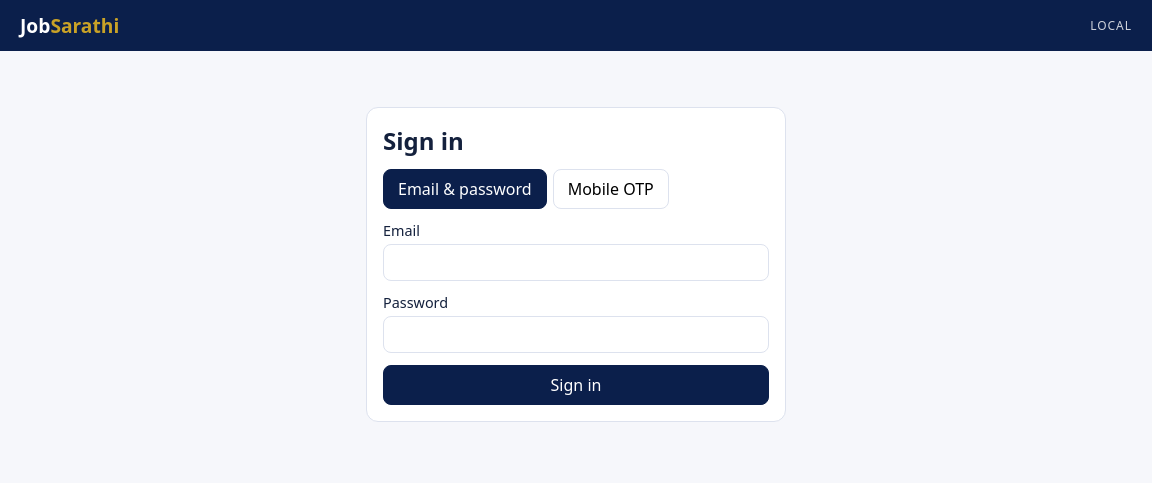
Test case: sign-in › signs in with a mobile OTP and never shows the code
The width and height of the screenshot is (1152, 483).
Click the tab "Mobile OTP" at (611, 189), box [553, 169, 669, 209]
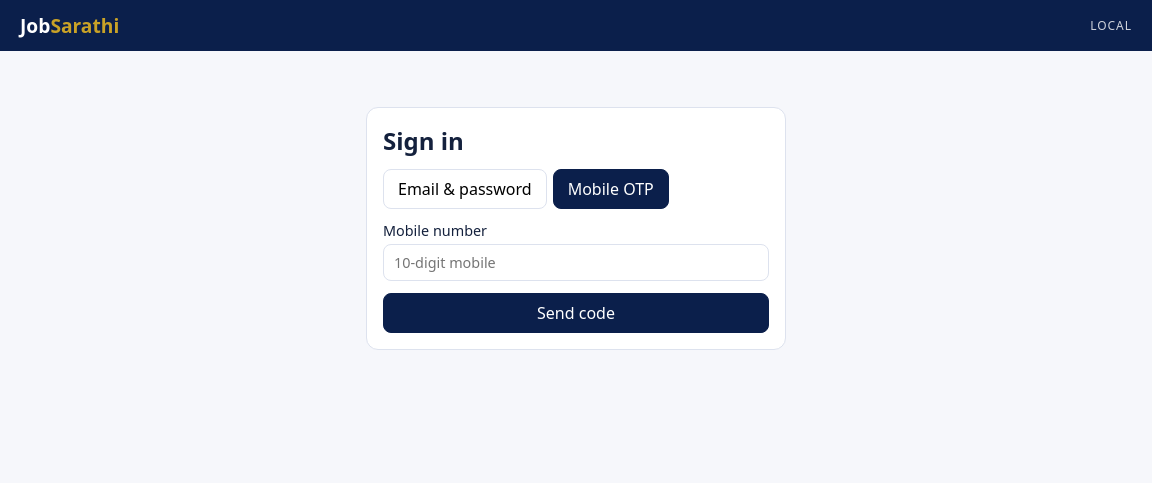
Type "9876543210" into the field labelled "Mobile number" at (576, 262), box [383, 244, 769, 281]
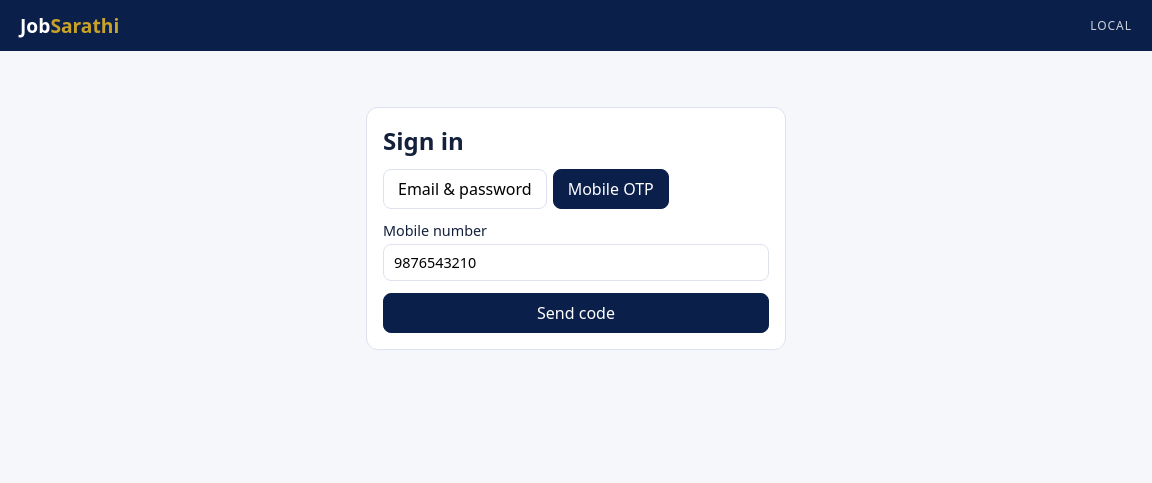
Click the button "Send code" at (576, 313), box [383, 293, 769, 333]
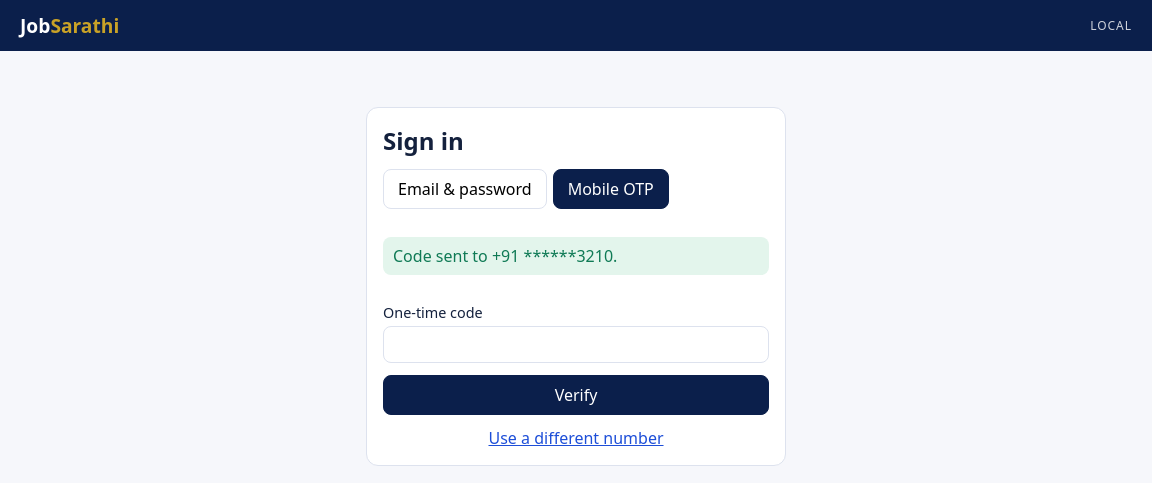
expect the text "Code sent to +91 ******3210." is shown: met, box [383, 237, 769, 275]
Type "12a3456" into the field labelled "One-time code" at (576, 344), box [383, 326, 769, 363]
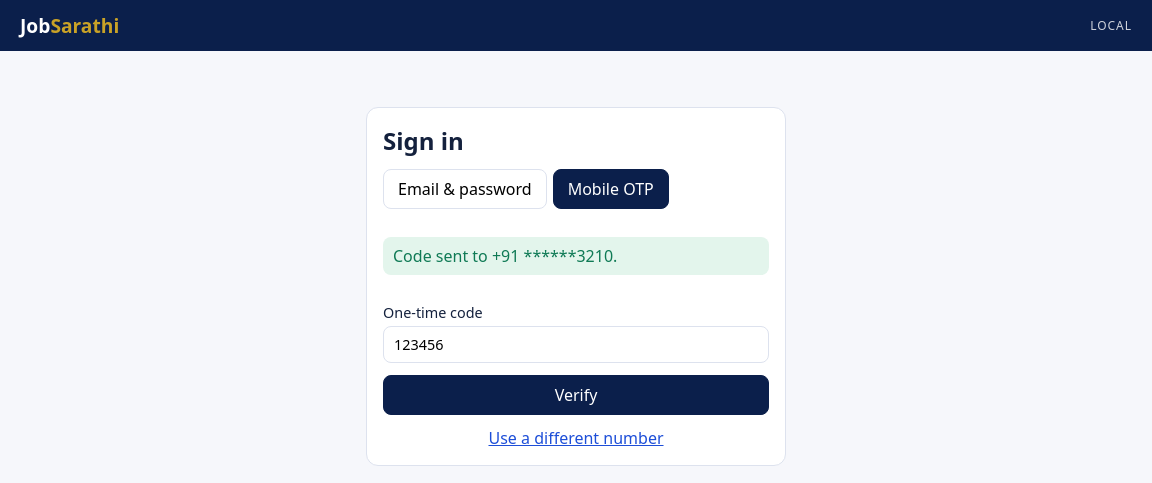
Click the button "Verify" at (576, 395), box [383, 375, 769, 415]
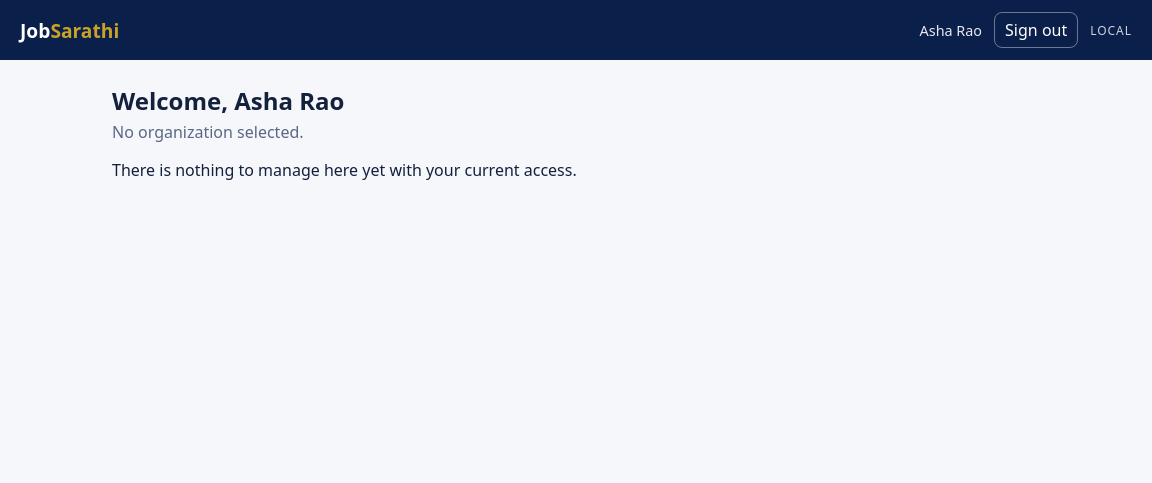
expect the heading "Welcome, Asha Rao" is shown: met, box [112, 84, 344, 117]
